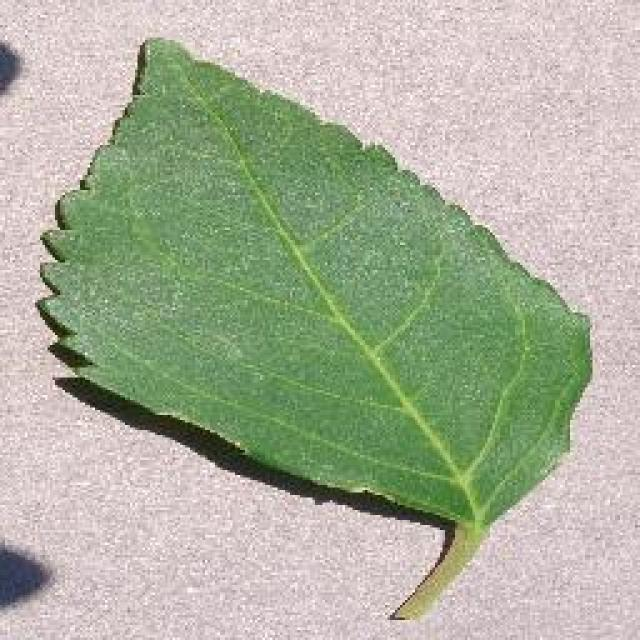Cherry___healthy: (22, 23, 602, 635)
